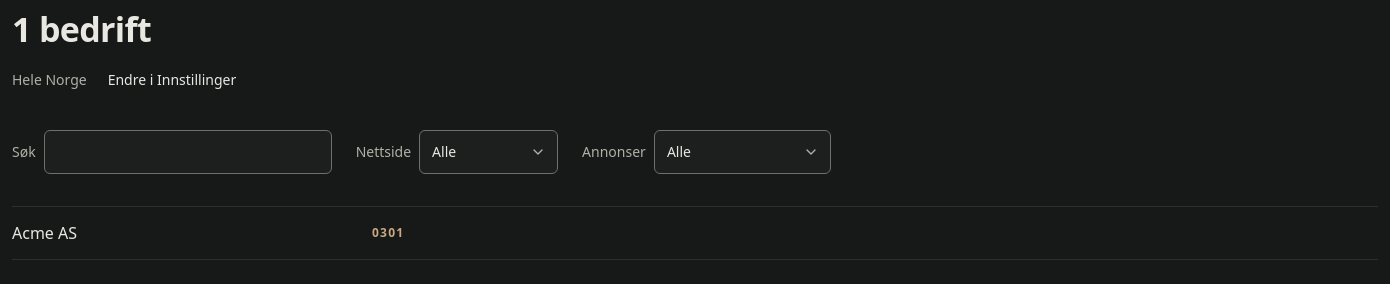
it: CompaniesView › a search with no match says so and offers to clear it
Expected: the text "Acme AS" is shown, [12,222,77,244]
Type "zzqxj" into the search field labelled "Søk" at (188, 152), box [44,130,332,174]
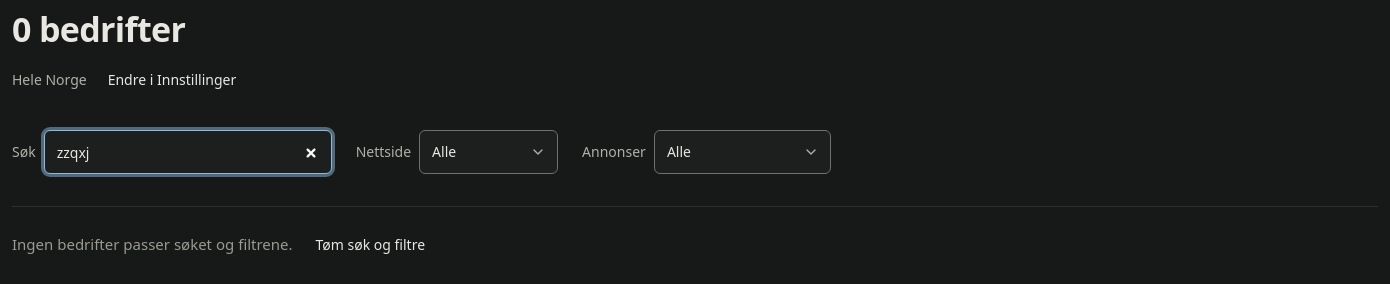
Result: the text "Ingen bedrifter passer søket og filtrene." is shown at [12,234,292,254]
Click the button "Tøm søk og filtre" at (370, 245), box [304,223,436,267]
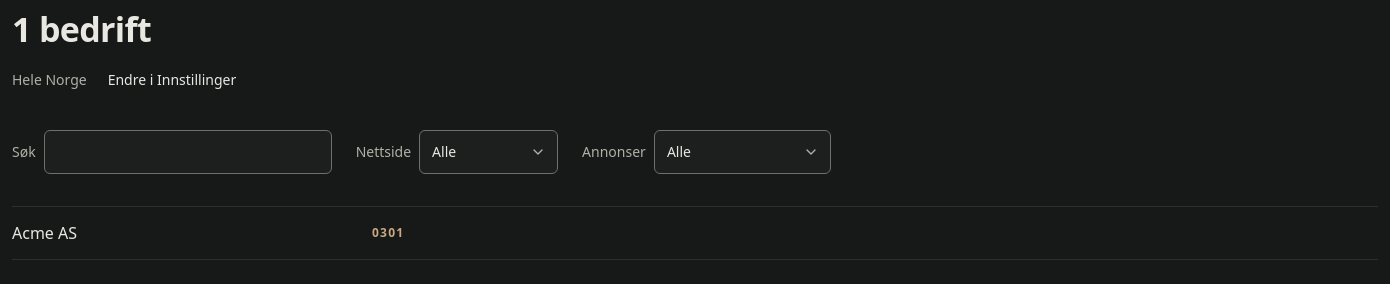
Result: the text "Acme AS" is shown at [12,222,77,244]
Result: the search field labelled "Søk" is empty at [44,130,332,174]
